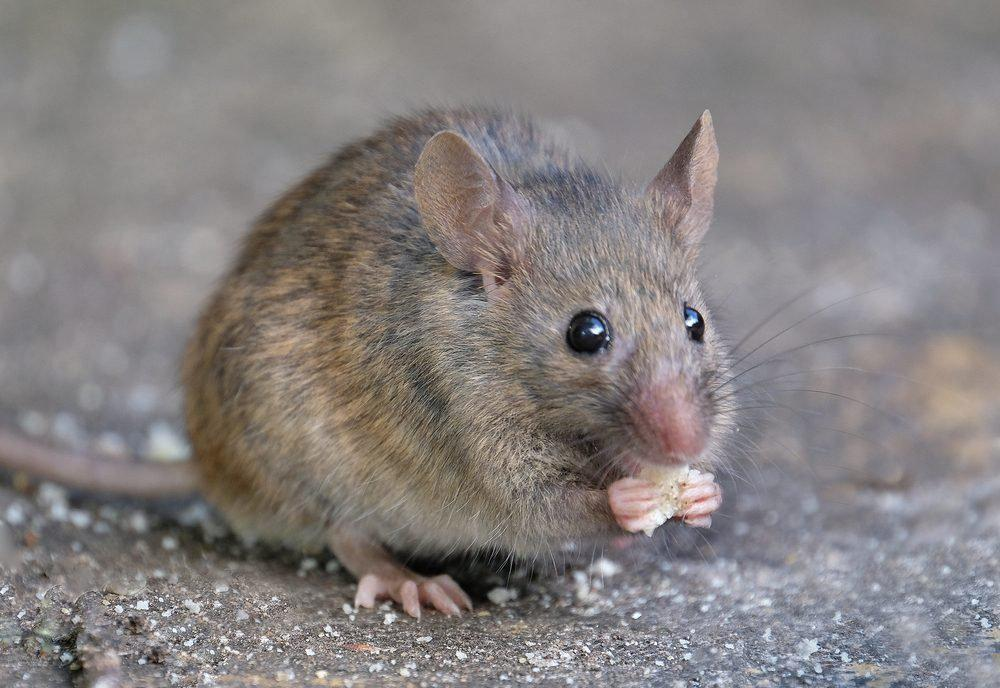rat: (5, 106, 740, 621)
